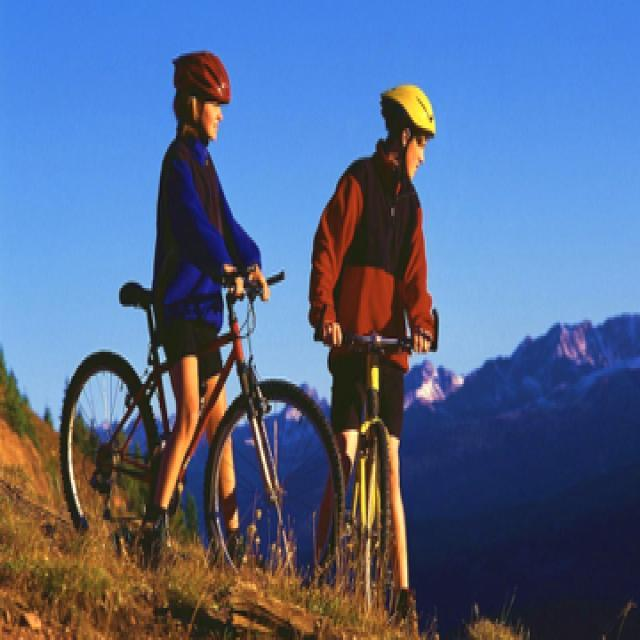Helmet: (379, 72, 437, 182), (169, 42, 229, 144)
